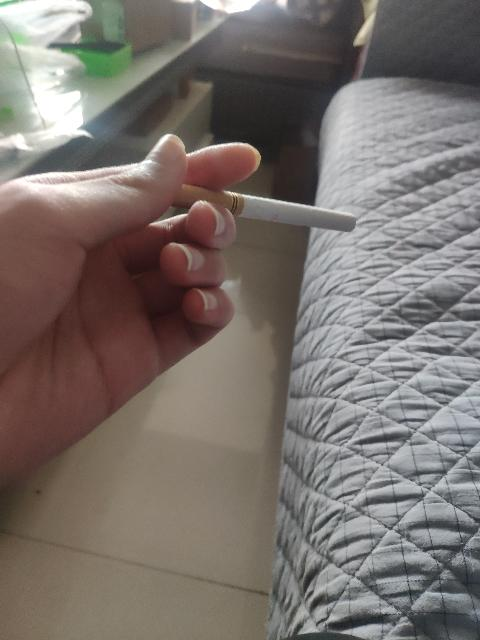Cigarette: (170, 183, 359, 233)
